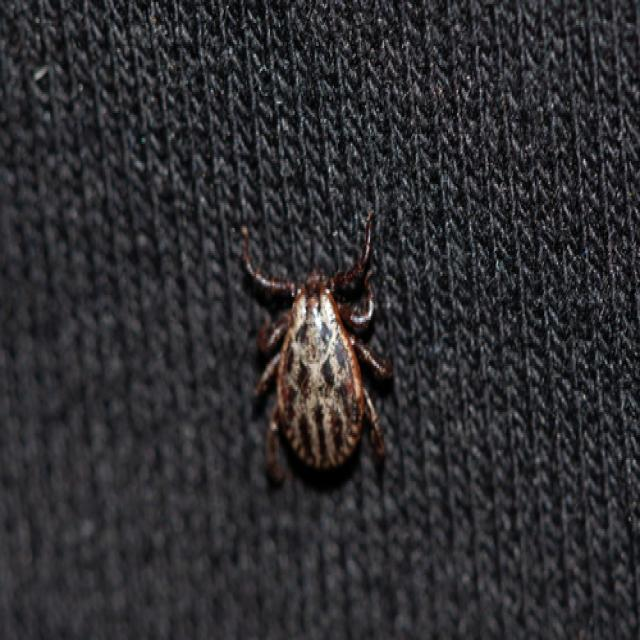Dermacentor Reticulatus-M: (242, 213, 393, 482)
